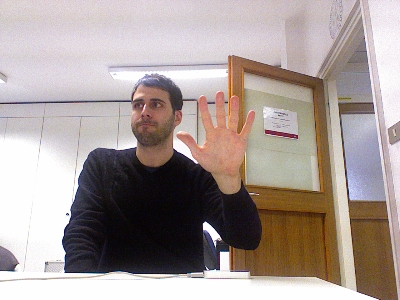布: (174, 89, 255, 175)
